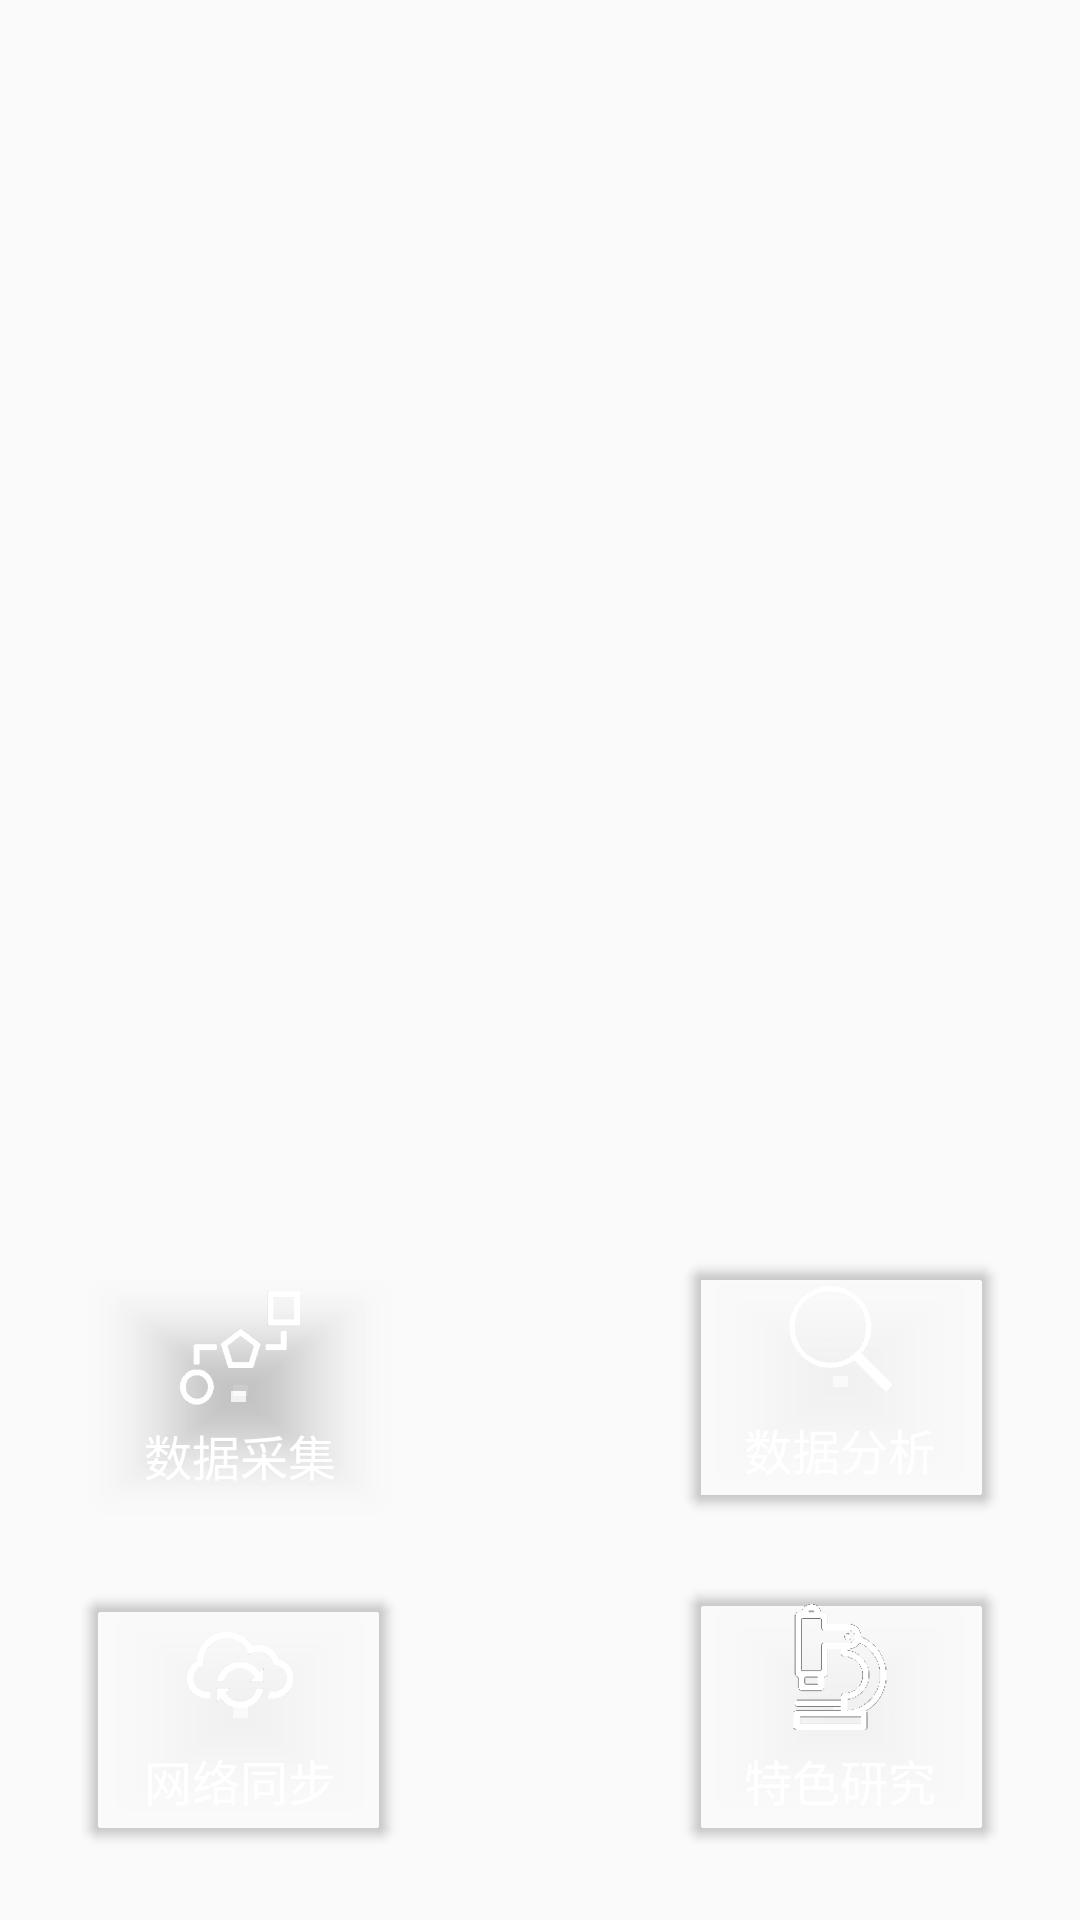

Named icons in this screenshot (1080x1920) and their bounding boxes, (x1, y1, x2, y2):
cloud: (180, 1610, 300, 1702)
